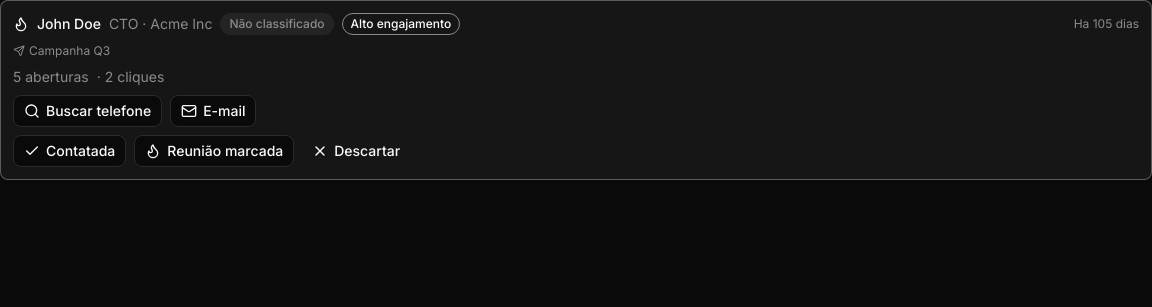
Test: OpportunityCard — Story 21.5 › Rascunho por IA (AC1/AC2/AC5) › degradação engagement (sem reply_text) → rascunho ainda é oferecido (AC5)
The width and height of the screenshot is (1152, 307).
What coordinates should you click on to do the following:
click the element with test id "opportunity-card"
I would click on:
 (576, 90)
Its box is [0,0,1151,180].
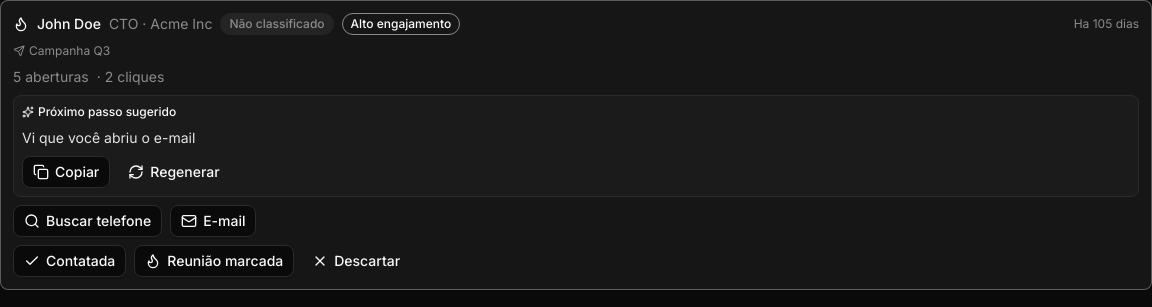
Now the text with test id "opportunity-draft-text" reads "Vi que você abriu o e-mail", box [22,129,195,146]
